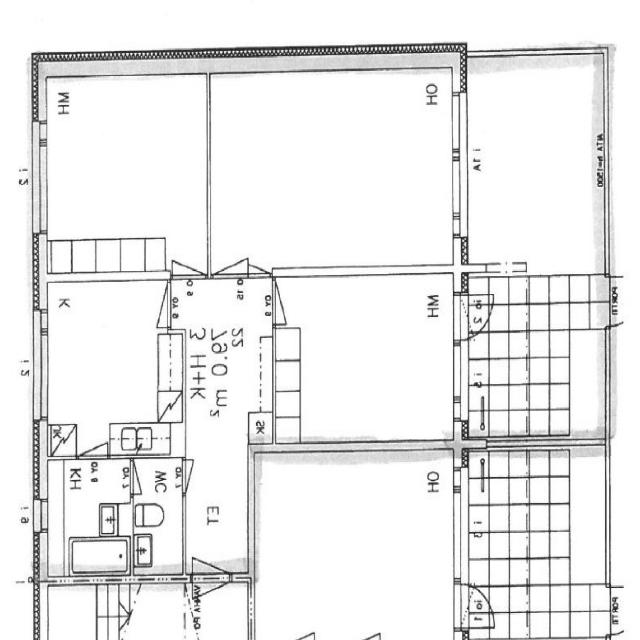door: (192, 575, 230, 638), (192, 524, 230, 587), (454, 293, 504, 340), (214, 224, 248, 279), (605, 277, 640, 327), (172, 226, 205, 279), (135, 282, 171, 327), (273, 280, 309, 324), (78, 417, 108, 460), (182, 461, 210, 494), (248, 239, 271, 279), (131, 462, 157, 493)
